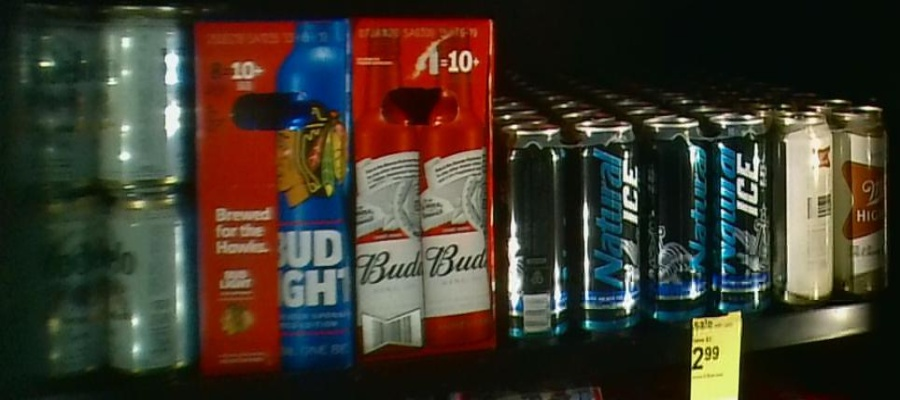bottle: (4, 5, 192, 370), (190, 18, 352, 368), (352, 19, 494, 351), (498, 128, 641, 338), (644, 119, 771, 323), (780, 106, 882, 301)
